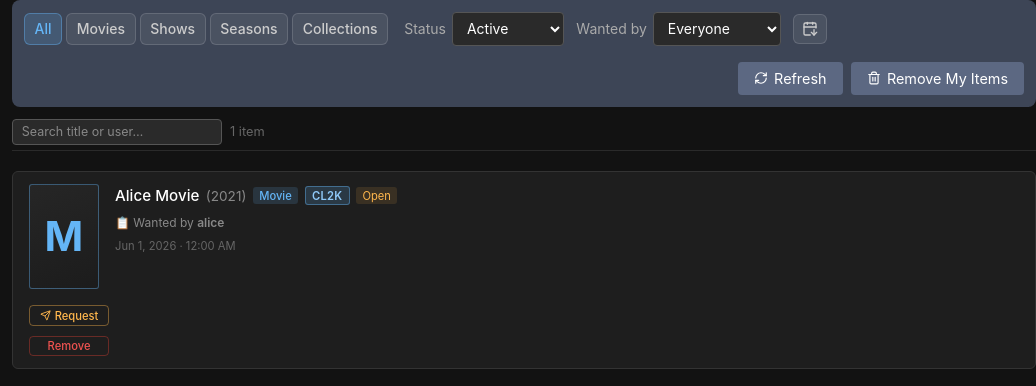
Test: ListsView — owner remove & bulk clear › lets the server owner remove an item they did not publish
This screenshot has width=1036, height=386.
Expected: the text "Alice Movie" is shown, [115, 186, 199, 205]
Owner sees Remove on an item they didn't publish.
Click the button "Remove": (69, 346) [29, 336, 109, 356]
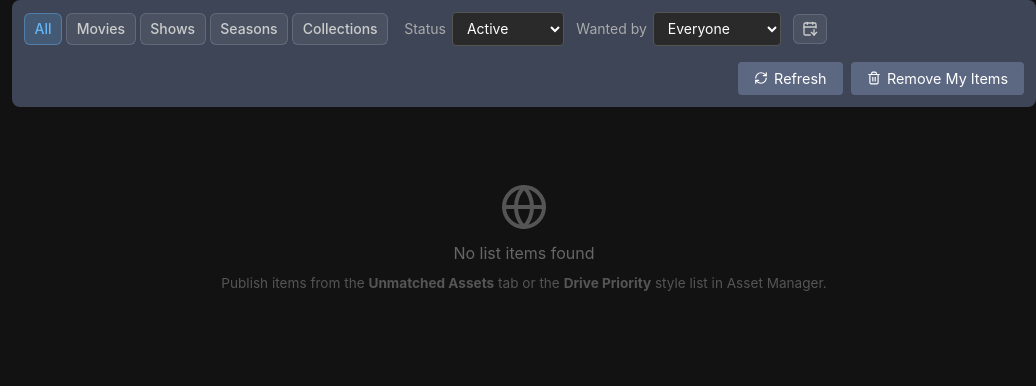
Expected: the text "Alice Movie" is gone
